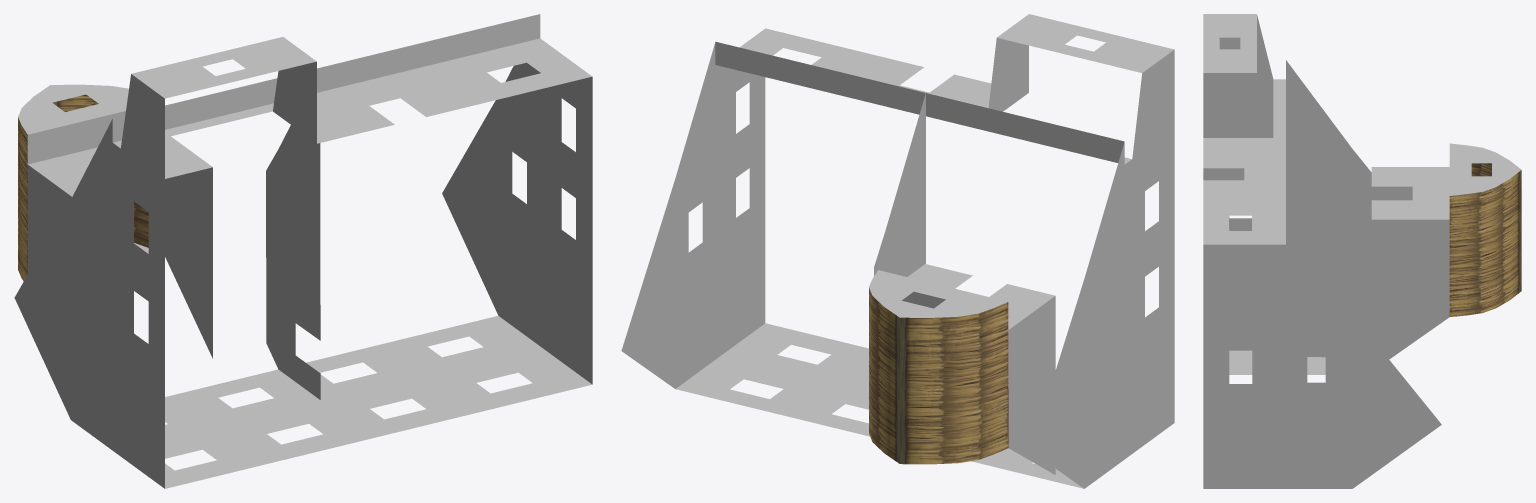
File: Pirate_Bar_Interior_A.fbx
3 views of the same model, side by side, from view 1: azimuth 30°, elevation 25°; view 2: azimuth 150°, elevation 25°; view 3: azimuth 270°, elevation 25° (orthographic). The views are drawn at different scales.
Visible parts, largest first — view 1: Pirate_Bar_Interior_A; view 2: Pirate_Bar_Interior_A; view 3: Pirate_Bar_Interior_A.
Boxes of the visible parts, x1,y1,x2,y2 form: Pirate_Bar_Interior_A: [14, 14, 592, 488]; Pirate_Bar_Interior_A: [621, 14, 1174, 488]; Pirate_Bar_Interior_A: [1203, 14, 1521, 488].
Size of the model in its own units: 20.19 by 17.61 by 16.42.
